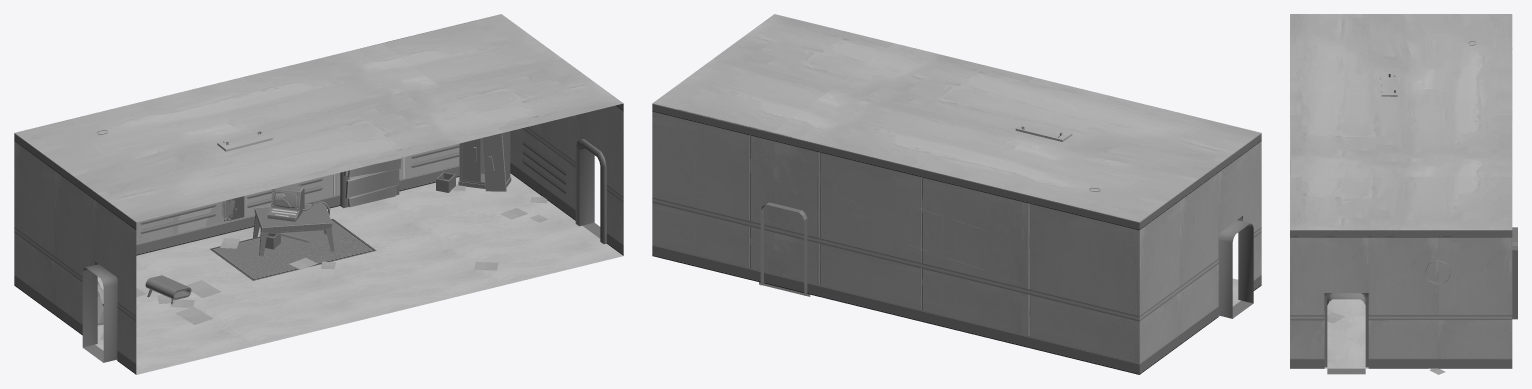
The model's file is MSH_QuestIndustrial_L2_R2_optimized.fbx.
3 renders of one model, left to right at view 1: azimuth 30°, elevation 25°; view 2: azimuth 150°, elevation 25°; view 3: azimuth 270°, elevation 25°, orthographic. The views are drawn at different scales.
Visible parts, largest first — view 1: lightmap2, lightmap3, lightmap0, MSH_QuestIndustrial_L2_R2_Papers_01; view 2: lightmap2, lightmap0; view 3: lightmap2, lightmap3, lightmap0, MSH_QuestIndustrial_L2_R2_Papers_01.
Part boxes in pixels (x1,y1,x2,y2): lightmap2: [14, 14, 623, 374]; lightmap3: [93, 20, 623, 374]; lightmap0: [82, 130, 606, 362]; MSH_QuestIndustrial_L2_R2_Papers_01: [99, 184, 548, 340]; lightmap2: [652, 14, 1261, 374]; lightmap0: [759, 126, 1253, 318]; lightmap2: [1290, 14, 1512, 368]; lightmap3: [1324, 299, 1368, 368]; lightmap0: [1324, 41, 1517, 374]; MSH_QuestIndustrial_L2_R2_Papers_01: [1327, 312, 1445, 374].
Bounding box in the file's own units: 20.7 × 6.15 × 8.74.
2 materials, 2 textured.
